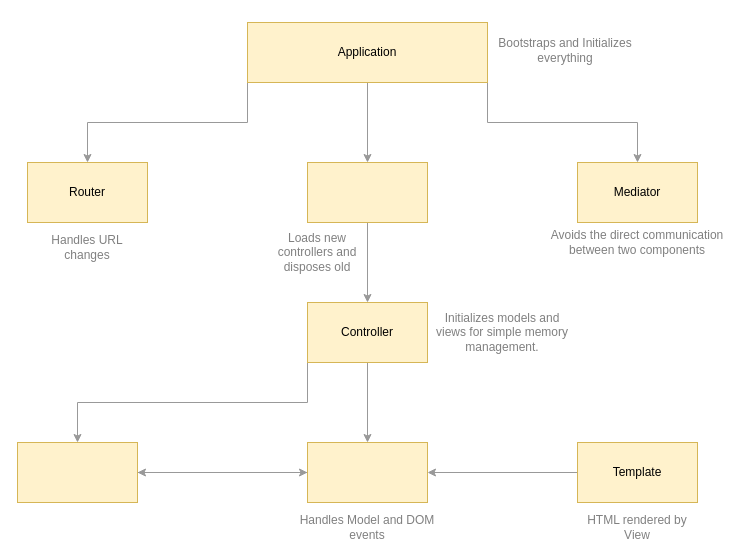
Image size: 750x559. Some labels were removed from this diagram. The centre of each missing label's shape, as x and y in pixels:
"Dispatcher" belongs at [367,192].
"Model" belongs at [77,472].
"View" belongs at [367,472].
